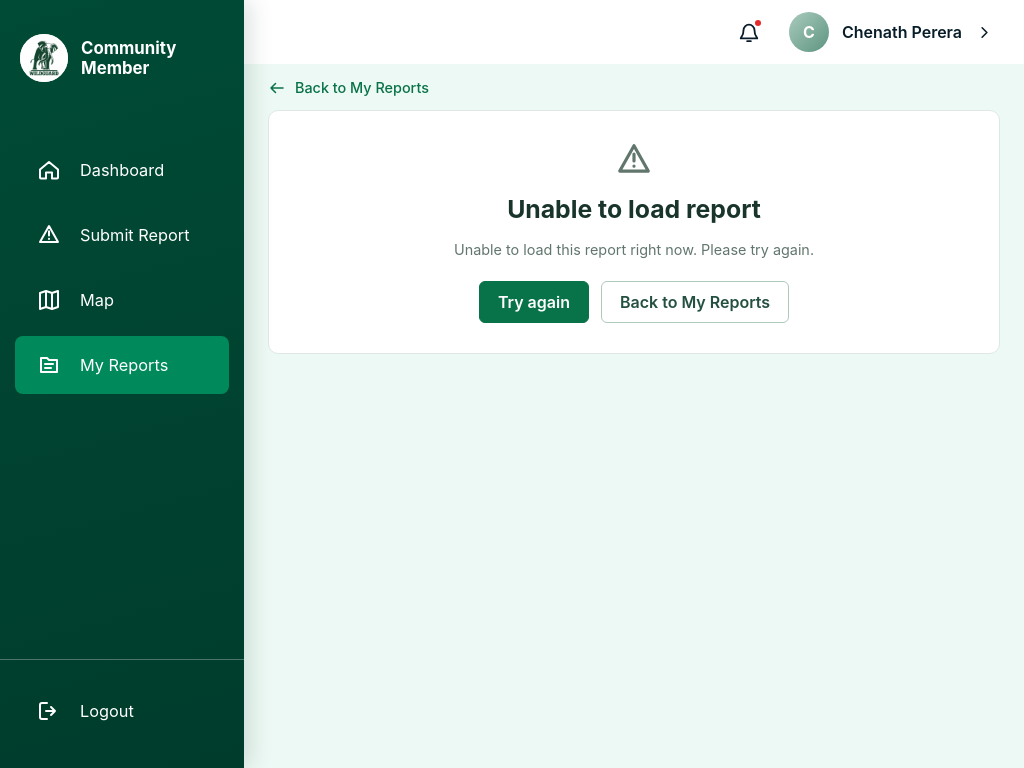
Test: Report Details › recovers from network failure on retry and renders rejected progress without invented review dates
Click the button "Try again" at (534, 302), box [479, 281, 589, 323]
(page scrolled)
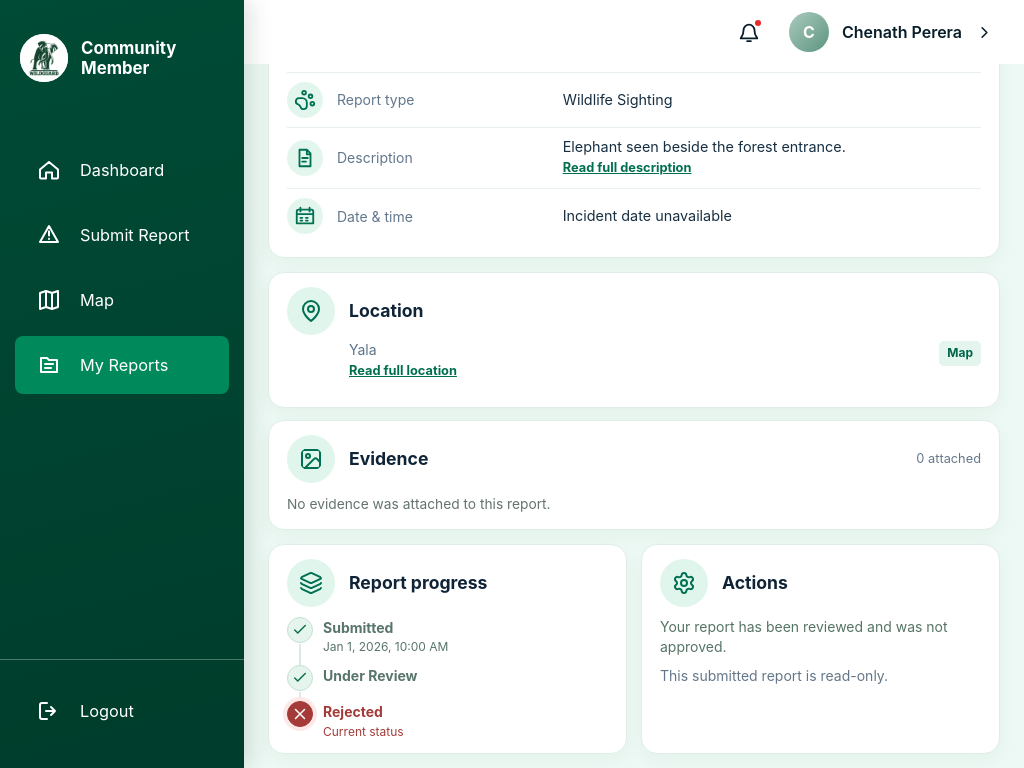
Check: the text "Yala" is shown, box [349, 342, 377, 358]
Check: the text "Map" in the row of "Yala" is shown, box [947, 346, 973, 360]
Check: the list item "Rejected Current status" is shown, box [287, 701, 404, 739]
